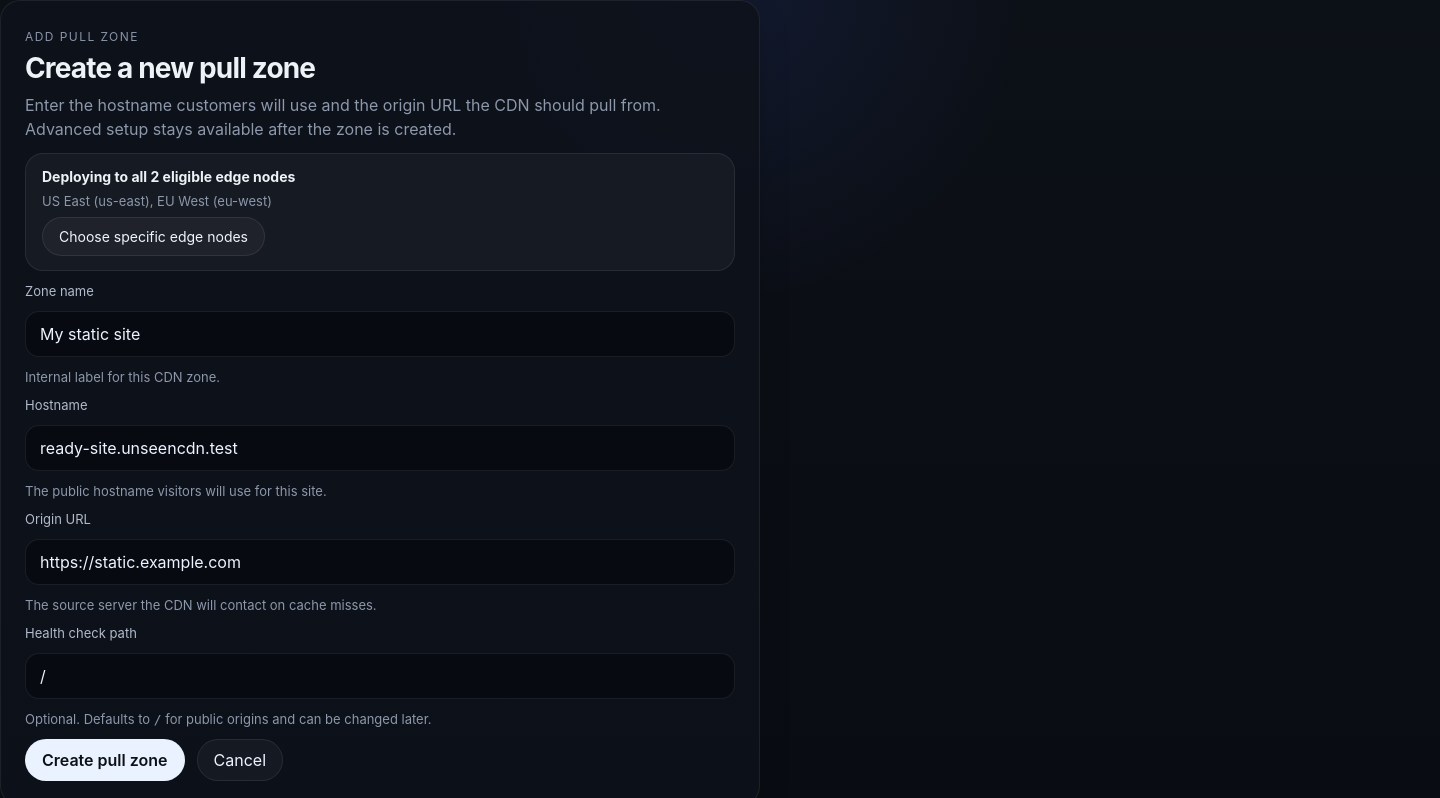
Scenario: new domain form › updates the placement summary when a subset is selected
Click the button "Choose specific edge nodes". click: (154, 236)
box: [42,217,265,256]
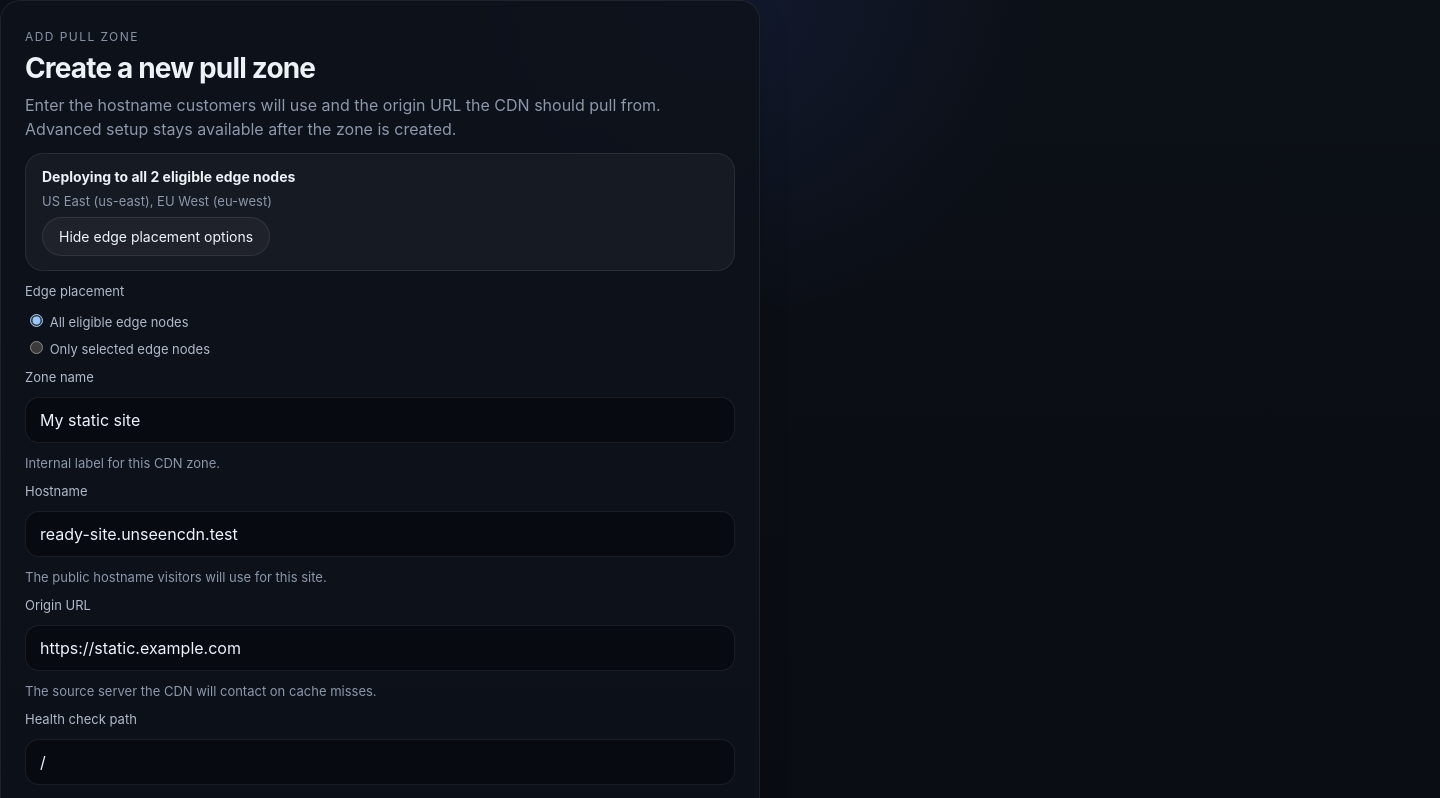
Click the radio button labelled "Only selected edge nodes". click: (36, 348)
box: [30,341,43,354]
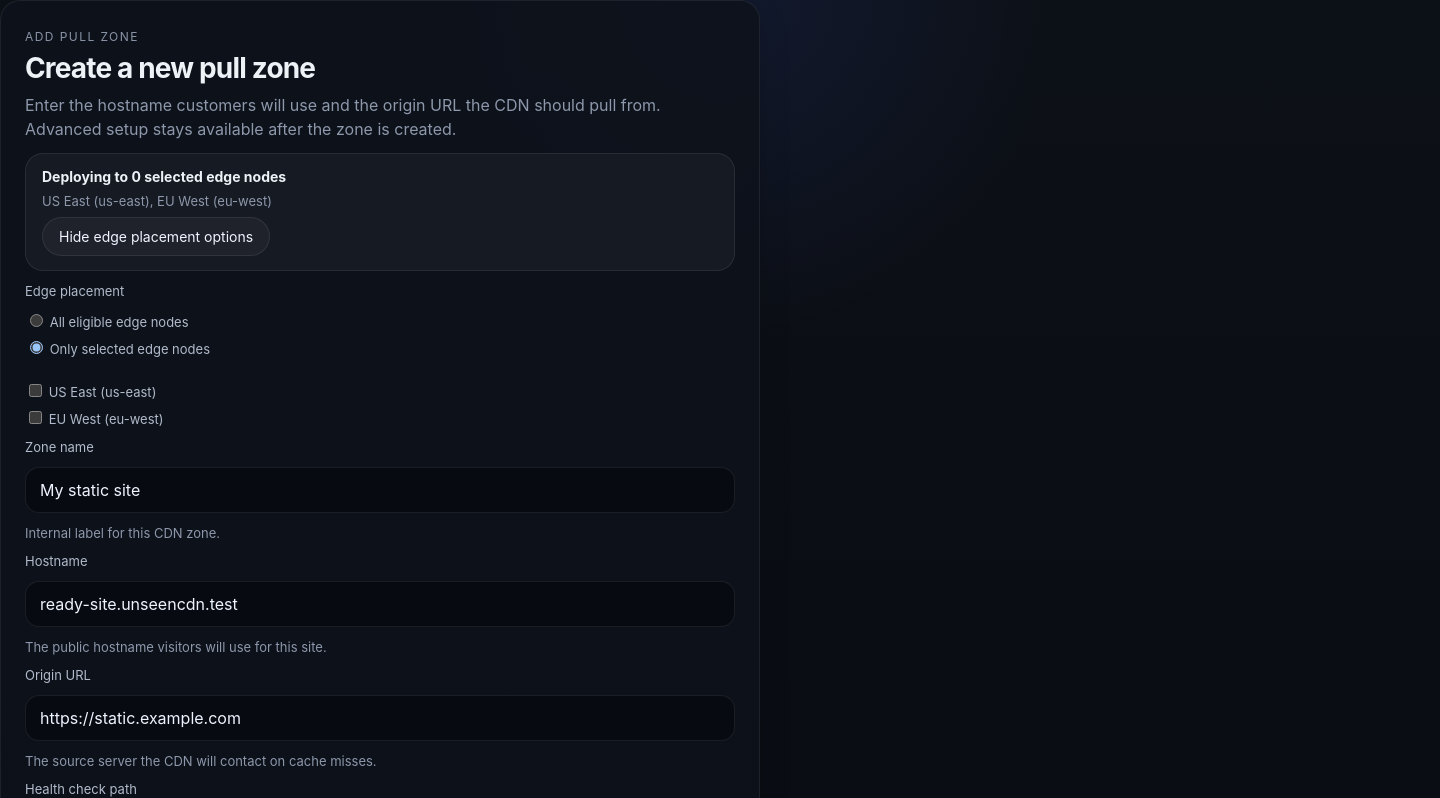
Click the checkbox labelled "US East (us-east)". click: (36, 390)
box: [29,384,42,397]
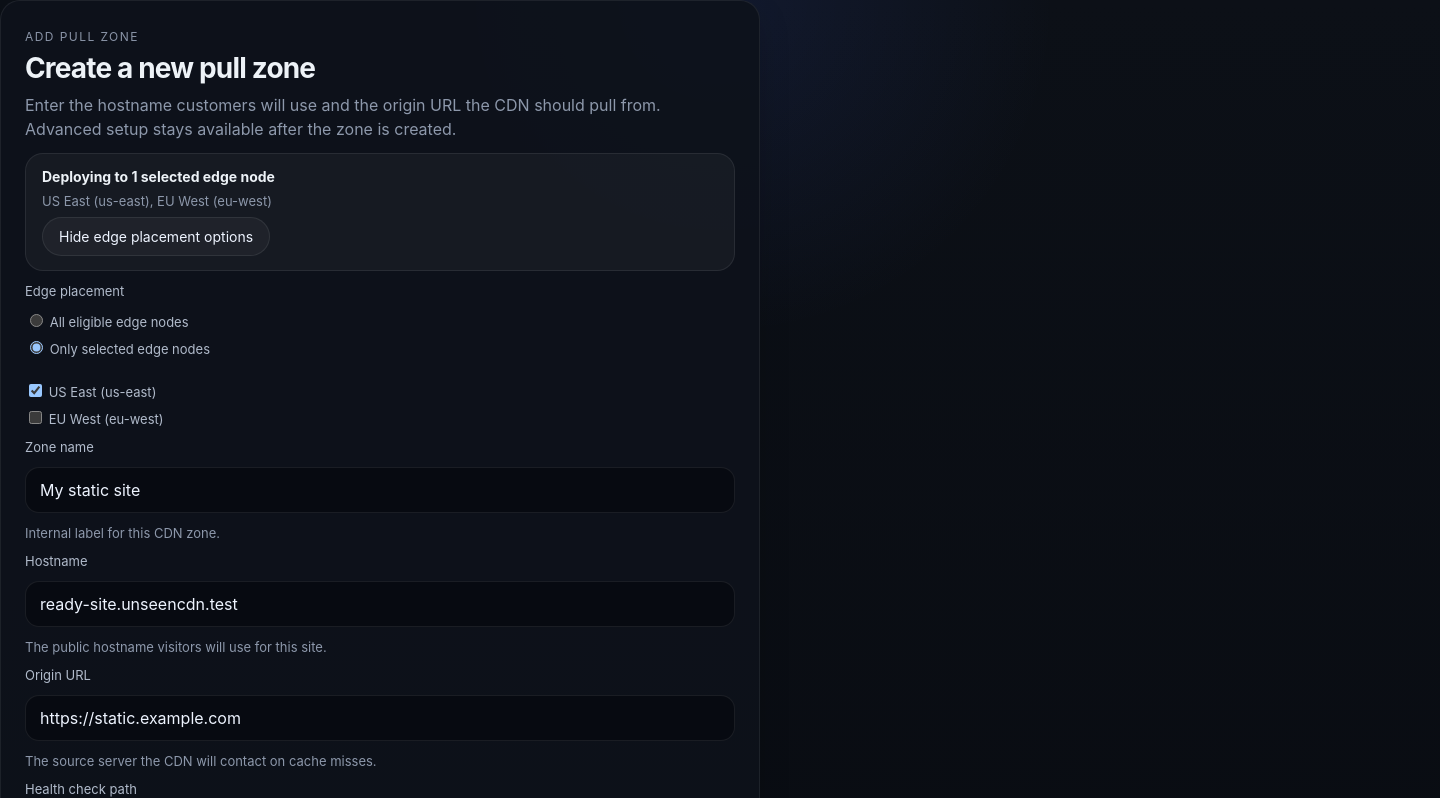
Expected: the text "Deploying to 1 selected edge node" is shown, [42,168,275,185]
